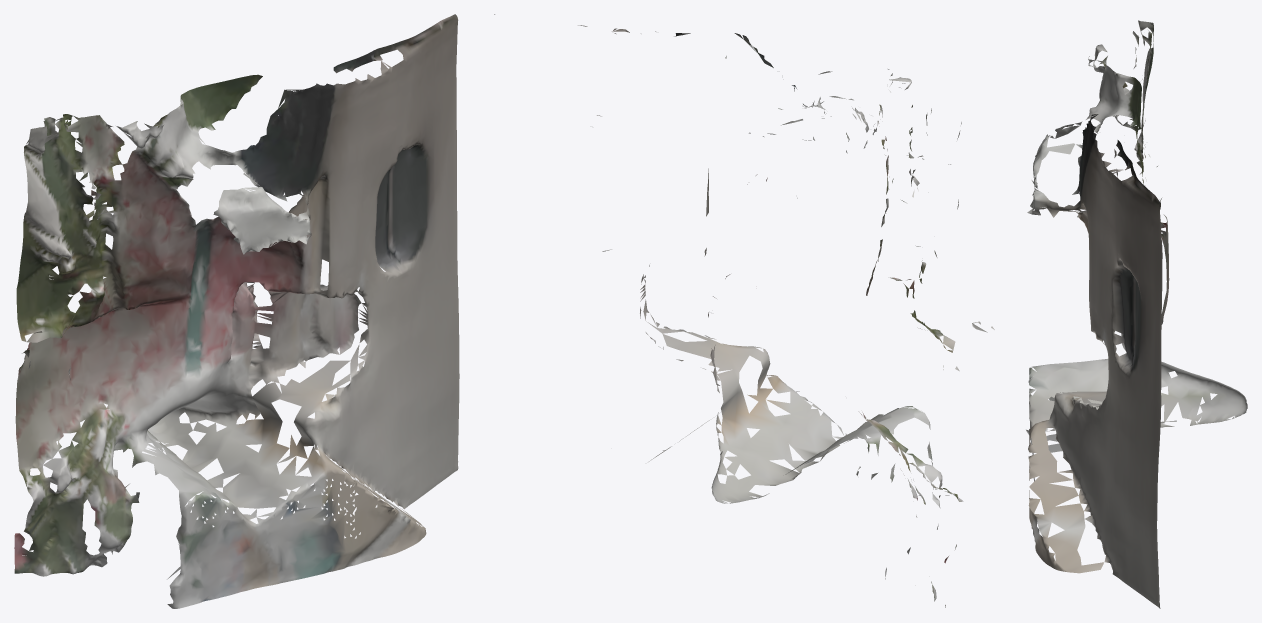
The picture shows the model from 3 angles, left to right: view 1: azimuth 30°, elevation 25°; view 2: azimuth 150°, elevation 25°; view 3: azimuth 270°, elevation 25°; orthographic projection. The views are drawn at different scales.
Bounding box in the file's own units: 0.9984 × 0.9938 × 0.4969.
